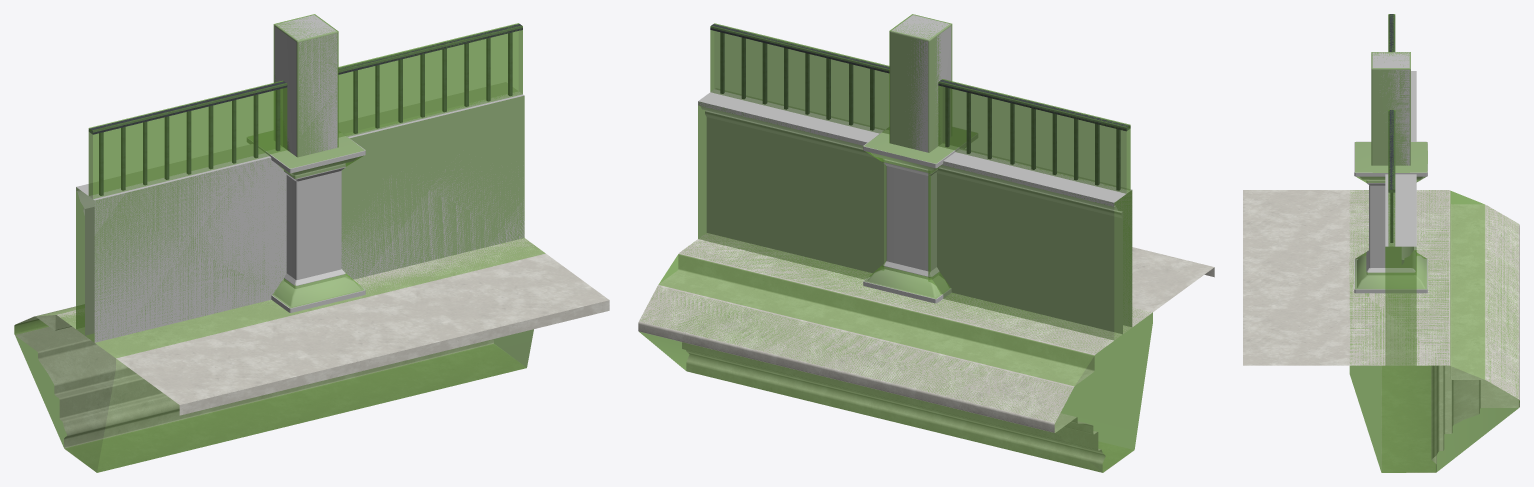
The model's file is F9_md_Roof_3m_01.fbx.
3 renders of one model, left to right at view 1: azimuth 30°, elevation 25°; view 2: azimuth 150°, elevation 25°; view 3: azimuth 270°, elevation 25°, orthographic. The views are drawn at different scales.
Parts seen in each view (by area): view 1: F9_md_Roof_3m_01_LOD0, F9_md_Roof_3m_01_col_4, F9_md_Roof_3m_01_col_9, F9_md_Roof_3m_01_col_5, F9_md_Roof_3m_01_col_2, F9_md_Roof_3m_01_col_3, F9_md_Roof_3m_01_col_1, F9_md_Roof_3m_01_col_8, F9_md_Roof_3m_01_col_6; view 2: F9_md_Roof_3m_01_LOD0, F9_md_Roof_3m_01_col_4, F9_md_Roof_3m_01_col_5, F9_md_Roof_3m_01_col_9, F9_md_Roof_3m_01_col_2, F9_md_Roof_3m_01_col_3, F9_md_Roof_3m_01_col_1, F9_md_Roof_3m_01_col_8, F9_md_Roof_3m_01_col_6; view 3: F9_md_Roof_3m_01_LOD0, F9_md_Roof_3m_01_col_4, F9_md_Roof_3m_01_col_9, F9_md_Roof_3m_01_col_1, F9_md_Roof_3m_01_col_8, F9_md_Roof_3m_01_col_6, F9_md_Roof_3m_01_col_3.
Part boxes in pixels (x1,y1,x2,y2): F9_md_Roof_3m_01_LOD0: (14, 15, 609, 472); F9_md_Roof_3m_01_col_4: (14, 238, 545, 472); F9_md_Roof_3m_01_col_9: (341, 96, 524, 279); F9_md_Roof_3m_01_col_5: (76, 158, 280, 342); F9_md_Roof_3m_01_col_2: (88, 80, 287, 198); F9_md_Roof_3m_01_col_3: (338, 23, 522, 137); F9_md_Roof_3m_01_col_1: (273, 14, 338, 157); F9_md_Roof_3m_01_col_8: (272, 273, 364, 308); F9_md_Roof_3m_01_col_6: (267, 133, 364, 178); F9_md_Roof_3m_01_LOD0: (638, 15, 1214, 472); F9_md_Roof_3m_01_col_4: (639, 238, 1152, 472); F9_md_Roof_3m_01_col_5: (928, 162, 1132, 340); F9_md_Roof_3m_01_col_9: (698, 102, 886, 279); F9_md_Roof_3m_01_col_2: (938, 79, 1130, 193); F9_md_Roof_3m_01_col_3: (710, 23, 889, 133); F9_md_Roof_3m_01_col_1: (889, 14, 952, 152); F9_md_Roof_3m_01_col_8: (864, 265, 950, 298); F9_md_Roof_3m_01_col_6: (864, 129, 957, 173); F9_md_Roof_3m_01_LOD0: (1243, 14, 1519, 472); F9_md_Roof_3m_01_col_4: (1349, 190, 1519, 472); F9_md_Roof_3m_01_col_9: (1385, 246, 1416, 365); F9_md_Roof_3m_01_col_1: (1371, 52, 1410, 165); F9_md_Roof_3m_01_col_8: (1355, 252, 1427, 289); F9_md_Roof_3m_01_col_6: (1355, 142, 1427, 182); F9_md_Roof_3m_01_col_3: (1388, 110, 1395, 246).
Size of what is drawn, in the model's own units: 300 by 259 by 200.
